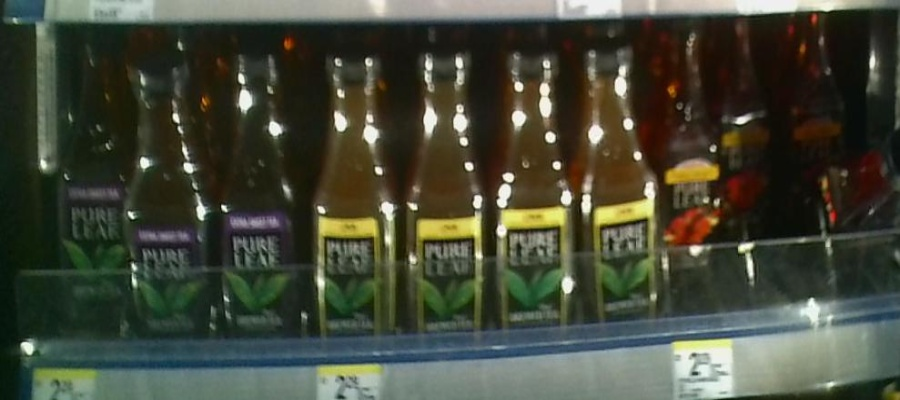bottle: (308, 42, 401, 361), (401, 45, 495, 359), (126, 49, 217, 343), (219, 42, 304, 355), (581, 29, 663, 345), (498, 51, 580, 364), (56, 25, 124, 342), (665, 18, 722, 275), (725, 22, 776, 234), (813, 134, 884, 236)
